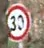limite 30: (4, 1, 30, 42)
